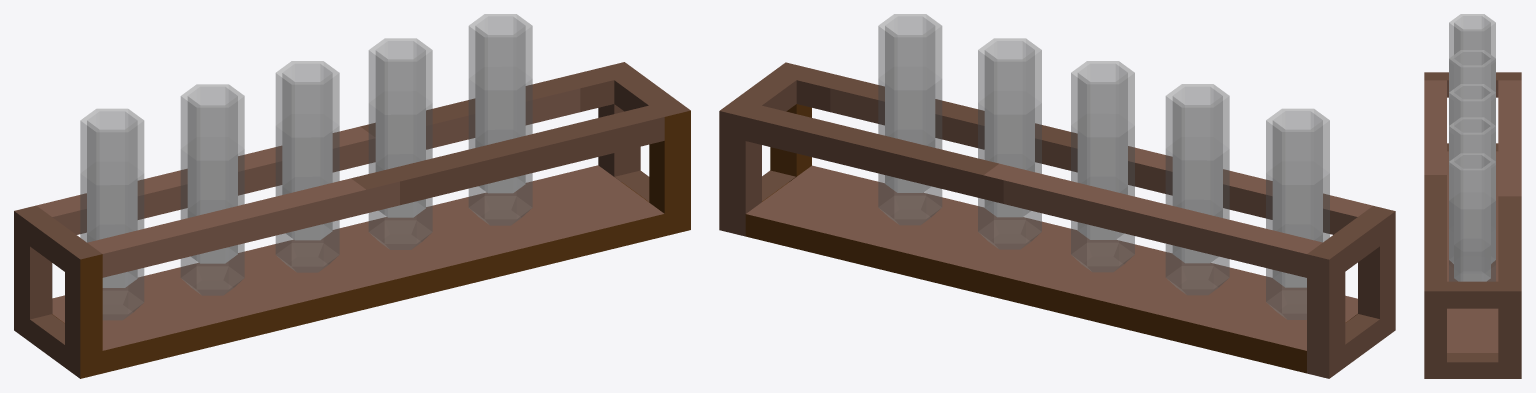
The model's file is test_tubes_887x00.gltf.
3 renders of one model, left to right at view 1: azimuth 30°, elevation 25°; view 2: azimuth 150°, elevation 25°; view 3: azimuth 270°, elevation 25°, orthographic. The views are drawn at different scales.
Visible parts, largest first — view 1: test_tubes_887x00; view 2: test_tubes_887x00; view 3: test_tubes_887x00.
Boxes of the visible parts, left/top/right/bottom form: test_tubes_887x00: left=14, top=14, right=690, bottom=378; test_tubes_887x00: left=719, top=14, right=1395, bottom=378; test_tubes_887x00: left=1424, top=14, right=1521, bottom=378.
Size of the model in its own units: 2.61 by 0.893 by 0.4913.
Materials: 2 (2 with a texture image).
